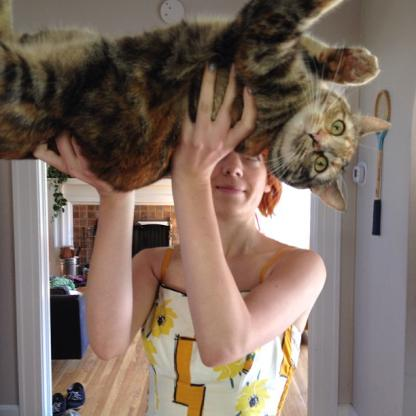Target: (0, 0, 416, 212)
